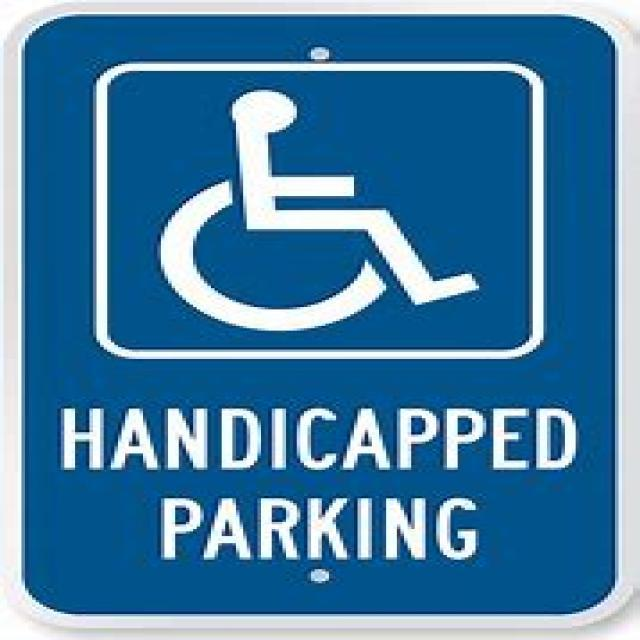symbol_of_access: (160, 93, 480, 334)
